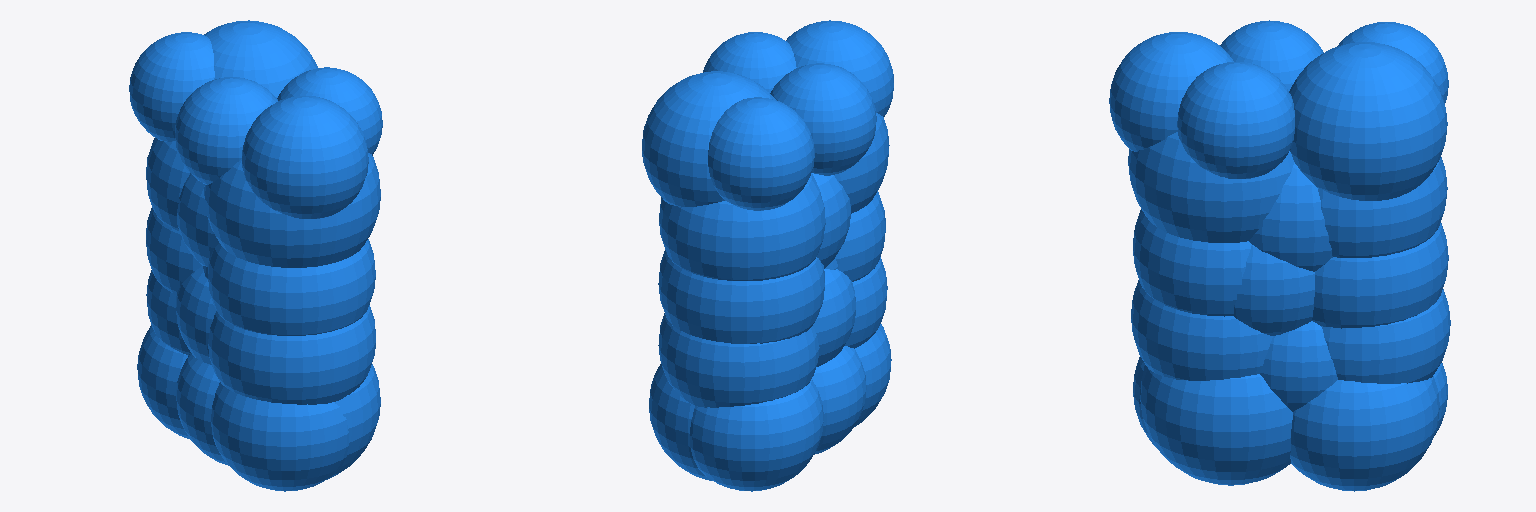
robot.urdf — nesquik:
<?xml version="1.0"?>
<robot name="nesquik">
  <!-- morphit:centroid -0.000616 -0.000011 0.072664 -->
  <material name="default_color">
    <color rgba="0.200000 0.600000 1.000000 1.000000"/>
  </material>
  <link name="base">
    <inertial>
      <mass value="0.001000"/>
      <inertia ixx="0.000010" ixy="0.0" ixz="0.0" iyy="0.000010" iyz="0.0" izz="0.000010"/>
    </inertial>
  </link>
  <link name="sphere_0">
    <visual>
      <origin xyz="0 0 0" rpy="0 0 0"/>
      <geometry><sphere radius="0.027161"/></geometry>
      <material name="default_color"/>
    </visual>
    <collision>
      <origin xyz="0 0 0" rpy="0 0 0"/>
      <geometry><sphere radius="0.027161"/></geometry>
    </collision>
    <inertial>
      <mass value="0.048175"/>
      <inertia ixx="0.000014" ixy="0.0" ixz="0.0" iyy="0.000014" iyz="0.0" izz="0.000014"/>
    </inertial>
  </link>
  <joint name="sphere_0_fixed" type="fixed">
    <parent link="base"/>
    <child link="sphere_0"/>
    <origin xyz="0.009214 0.024814 0.051232" rpy="0 0 0"/>
  </joint>
  <link name="sphere_1">
    <visual>
      <origin xyz="0 0 0" rpy="0 0 0"/>
      <geometry><sphere radius="0.022698"/></geometry>
      <material name="default_color"/>
    </visual>
    <collision>
      <origin xyz="0 0 0" rpy="0 0 0"/>
      <geometry><sphere radius="0.022698"/></geometry>
    </collision>
    <inertial>
      <mass value="0.028116"/>
      <inertia ixx="0.000006" ixy="0.0" ixz="0.0" iyy="0.000006" iyz="0.0" izz="0.000006"/>
    </inertial>
  </link>
  <joint name="sphere_1_fixed" type="fixed">
    <parent link="base"/>
    <child link="sphere_1"/>
    <origin xyz="-0.002673 -0.036501 0.054243" rpy="0 0 0"/>
  </joint>
  <link name="sphere_2">
    <visual>
      <origin xyz="0 0 0" rpy="0 0 0"/>
      <geometry><sphere radius="0.030306"/></geometry>
      <material name="default_color"/>
    </visual>
    <collision>
      <origin xyz="0 0 0" rpy="0 0 0"/>
      <geometry><sphere radius="0.030306"/></geometry>
    </collision>
    <inertial>
      <mass value="0.066917"/>
      <inertia ixx="0.000025" ixy="0.0" ixz="0.0" iyy="0.000025" iyz="0.0" izz="0.000025"/>
    </inertial>
  </link>
  <joint name="sphere_2_fixed" type="fixed">
    <parent link="base"/>
    <child link="sphere_2"/>
    <origin xyz="0.003570 -0.019130 -0.048899" rpy="0 0 0"/>
  </joint>
  <link name="sphere_3">
    <visual>
      <origin xyz="0 0 0" rpy="0 0 0"/>
      <geometry><sphere radius="0.028116"/></geometry>
      <material name="default_color"/>
    </visual>
    <collision>
      <origin xyz="0 0 0" rpy="0 0 0"/>
      <geometry><sphere radius="0.028116"/></geometry>
    </collision>
    <inertial>
      <mass value="0.053438"/>
      <inertia ixx="0.000017" ixy="0.0" ixz="0.0" iyy="0.000017" iyz="0.0" izz="0.000017"/>
    </inertial>
  </link>
  <joint name="sphere_3_fixed" type="fixed">
    <parent link="base"/>
    <child link="sphere_3"/>
    <origin xyz="0.007171 0.021315 -0.051766" rpy="0 0 0"/>
  </joint>
  <link name="sphere_4">
    <visual>
      <origin xyz="0 0 0" rpy="0 0 0"/>
      <geometry><sphere radius="0.030012"/></geometry>
      <material name="default_color"/>
    </visual>
    <collision>
      <origin xyz="0 0 0" rpy="0 0 0"/>
      <geometry><sphere radius="0.030012"/></geometry>
    </collision>
    <inertial>
      <mass value="0.064992"/>
      <inertia ixx="0.000023" ixy="0.0" ixz="0.0" iyy="0.000023" iyz="0.0" izz="0.000023"/>
    </inertial>
  </link>
  <joint name="sphere_4_fixed" type="fixed">
    <parent link="base"/>
    <child link="sphere_4"/>
    <origin xyz="0.000486 -0.021513 0.002787" rpy="0 0 0"/>
  </joint>
  <link name="sphere_5">
    <visual>
      <origin xyz="0 0 0" rpy="0 0 0"/>
      <geometry><sphere radius="0.031520"/></geometry>
      <material name="default_color"/>
    </visual>
    <collision>
      <origin xyz="0 0 0" rpy="0 0 0"/>
      <geometry><sphere radius="0.031520"/></geometry>
    </collision>
    <inertial>
      <mass value="0.075292"/>
      <inertia ixx="0.000030" ixy="0.0" ixz="0.0" iyy="0.000030" iyz="0.0" izz="0.000030"/>
    </inertial>
  </link>
  <joint name="sphere_5_fixed" type="fixed">
    <parent link="base"/>
    <child link="sphere_5"/>
    <origin xyz="0.000847 -0.021495 0.034028" rpy="0 0 0"/>
  </joint>
  <link name="sphere_6">
    <visual>
      <origin xyz="0 0 0" rpy="0 0 0"/>
      <geometry><sphere radius="0.020394"/></geometry>
      <material name="default_color"/>
    </visual>
    <collision>
      <origin xyz="0 0 0" rpy="0 0 0"/>
      <geometry><sphere radius="0.020394"/></geometry>
    </collision>
    <inertial>
      <mass value="0.020393"/>
      <inertia ixx="0.000003" ixy="0.0" ixz="0.0" iyy="0.000003" iyz="0.0" izz="0.000003"/>
    </inertial>
  </link>
  <joint name="sphere_6_fixed" type="fixed">
    <parent link="base"/>
    <child link="sphere_6"/>
    <origin xyz="-0.015370 -0.006457 0.054926" rpy="0 0 0"/>
  </joint>
  <link name="sphere_7">
    <visual>
      <origin xyz="0 0 0" rpy="0 0 0"/>
      <geometry><sphere radius="0.030041"/></geometry>
      <material name="default_color"/>
    </visual>
    <collision>
      <origin xyz="0 0 0" rpy="0 0 0"/>
      <geometry><sphere radius="0.030041"/></geometry>
    </collision>
    <inertial>
      <mass value="0.065183"/>
      <inertia ixx="0.000024" ixy="0.0" ixz="0.0" iyy="0.000024" iyz="0.0" izz="0.000024"/>
    </inertial>
  </link>
  <joint name="sphere_7_fixed" type="fixed">
    <parent link="base"/>
    <child link="sphere_7"/>
    <origin xyz="0.000391 0.022299 -0.001291" rpy="0 0 0"/>
  </joint>
  <link name="sphere_8">
    <visual>
      <origin xyz="0 0 0" rpy="0 0 0"/>
      <geometry><sphere radius="0.020468"/></geometry>
      <material name="default_color"/>
    </visual>
    <collision>
      <origin xyz="0 0 0" rpy="0 0 0"/>
      <geometry><sphere radius="0.020468"/></geometry>
    </collision>
    <inertial>
      <mass value="0.020617"/>
      <inertia ixx="0.000003" ixy="0.0" ixz="0.0" iyy="0.000003" iyz="0.0" izz="0.000003"/>
    </inertial>
  </link>
  <joint name="sphere_8_fixed" type="fixed">
    <parent link="base"/>
    <child link="sphere_8"/>
    <origin xyz="-0.011831 0.031909 0.056051" rpy="0 0 0"/>
  </joint>
  <link name="sphere_9">
    <visual>
      <origin xyz="0 0 0" rpy="0 0 0"/>
      <geometry><sphere radius="0.019869"/></geometry>
      <material name="default_color"/>
    </visual>
    <collision>
      <origin xyz="0 0 0" rpy="0 0 0"/>
      <geometry><sphere radius="0.019869"/></geometry>
    </collision>
    <inertial>
      <mass value="0.018857"/>
      <inertia ixx="0.000003" ixy="0.0" ixz="0.0" iyy="0.000003" iyz="0.0" izz="0.000003"/>
    </inertial>
  </link>
  <joint name="sphere_9_fixed" type="fixed">
    <parent link="base"/>
    <child link="sphere_9"/>
    <origin xyz="0.017462 -0.017248 0.055919" rpy="0 0 0"/>
  </joint>
  <link name="sphere_10">
    <visual>
      <origin xyz="0 0 0" rpy="0 0 0"/>
      <geometry><sphere radius="0.030123"/></geometry>
      <material name="default_color"/>
    </visual>
    <collision>
      <origin xyz="0 0 0" rpy="0 0 0"/>
      <geometry><sphere radius="0.030123"/></geometry>
    </collision>
    <inertial>
      <mass value="0.065717"/>
      <inertia ixx="0.000024" ixy="0.0" ixz="0.0" iyy="0.000024" iyz="0.0" izz="0.000024"/>
    </inertial>
  </link>
  <joint name="sphere_10_fixed" type="fixed">
    <parent link="base"/>
    <child link="sphere_10"/>
    <origin xyz="0.000339 0.021846 0.023884" rpy="0 0 0"/>
  </joint>
  <link name="sphere_11">
    <visual>
      <origin xyz="0 0 0" rpy="0 0 0"/>
      <geometry><sphere radius="0.029068"/></geometry>
      <material name="default_color"/>
    </visual>
    <collision>
      <origin xyz="0 0 0" rpy="0 0 0"/>
      <geometry><sphere radius="0.029068"/></geometry>
    </collision>
    <inertial>
      <mass value="0.059047"/>
      <inertia ixx="0.000020" ixy="0.0" ixz="0.0" iyy="0.000020" iyz="0.0" izz="0.000020"/>
    </inertial>
  </link>
  <joint name="sphere_11_fixed" type="fixed">
    <parent link="base"/>
    <child link="sphere_11"/>
    <origin xyz="0.000552 0.023933 -0.024941" rpy="0 0 0"/>
  </joint>
  <link name="sphere_12">
    <visual>
      <origin xyz="0 0 0" rpy="0 0 0"/>
      <geometry><sphere radius="0.027553"/></geometry>
      <material name="default_color"/>
    </visual>
    <collision>
      <origin xyz="0 0 0" rpy="0 0 0"/>
      <geometry><sphere radius="0.027553"/></geometry>
    </collision>
    <inertial>
      <mass value="0.050288"/>
      <inertia ixx="0.000015" ixy="0.0" ixz="0.0" iyy="0.000015" iyz="0.0" izz="0.000015"/>
    </inertial>
  </link>
  <joint name="sphere_12_fixed" type="fixed">
    <parent link="base"/>
    <child link="sphere_12"/>
    <origin xyz="-0.003195 -0.023921 -0.050700" rpy="0 0 0"/>
  </joint>
  <link name="sphere_13">
    <visual>
      <origin xyz="0 0 0" rpy="0 0 0"/>
      <geometry><sphere radius="0.026407"/></geometry>
      <material name="default_color"/>
    </visual>
    <collision>
      <origin xyz="0 0 0" rpy="0 0 0"/>
      <geometry><sphere radius="0.026407"/></geometry>
    </collision>
    <inertial>
      <mass value="0.044271"/>
      <inertia ixx="0.000012" ixy="0.0" ixz="0.0" iyy="0.000012" iyz="0.0" izz="0.000012"/>
    </inertial>
  </link>
  <joint name="sphere_13_fixed" type="fixed">
    <parent link="base"/>
    <child link="sphere_13"/>
    <origin xyz="-0.005219 0.025775 -0.052416" rpy="0 0 0"/>
  </joint>
  <link name="sphere_14">
    <visual>
      <origin xyz="0 0 0" rpy="0 0 0"/>
      <geometry><sphere radius="0.026790"/></geometry>
      <material name="default_color"/>
    </visual>
    <collision>
      <origin xyz="0 0 0" rpy="0 0 0"/>
      <geometry><sphere radius="0.026790"/></geometry>
    </collision>
    <inertial>
      <mass value="0.046226"/>
      <inertia ixx="0.000013" ixy="0.0" ixz="0.0" iyy="0.000013" iyz="0.0" izz="0.000013"/>
    </inertial>
  </link>
  <joint name="sphere_14_fixed" type="fixed">
    <parent link="base"/>
    <child link="sphere_14"/>
    <origin xyz="0.003451 0.004159 -0.030756" rpy="0 0 0"/>
  </joint>
  <link name="sphere_15">
    <visual>
      <origin xyz="0 0 0" rpy="0 0 0"/>
      <geometry><sphere radius="0.030165"/></geometry>
      <material name="default_color"/>
    </visual>
    <collision>
      <origin xyz="0 0 0" rpy="0 0 0"/>
      <geometry><sphere radius="0.030165"/></geometry>
    </collision>
    <inertial>
      <mass value="0.065991"/>
      <inertia ixx="0.000024" ixy="0.0" ixz="0.0" iyy="0.000024" iyz="0.0" izz="0.000024"/>
    </inertial>
  </link>
  <joint name="sphere_15_fixed" type="fixed">
    <parent link="base"/>
    <child link="sphere_15"/>
    <origin xyz="0.000292 -0.021945 -0.022309" rpy="0 0 0"/>
  </joint>
  <link name="sphere_16">
    <visual>
      <origin xyz="0 0 0" rpy="0 0 0"/>
      <geometry><sphere radius="0.025687"/></geometry>
      <material name="default_color"/>
    </visual>
    <collision>
      <origin xyz="0 0 0" rpy="0 0 0"/>
      <geometry><sphere radius="0.025687"/></geometry>
    </collision>
    <inertial>
      <mass value="0.040750"/>
      <inertia ixx="0.000011" ixy="0.0" ixz="0.0" iyy="0.000011" iyz="0.0" izz="0.000011"/>
    </inertial>
  </link>
  <joint name="sphere_16_fixed" type="fixed">
    <parent link="base"/>
    <child link="sphere_16"/>
    <origin xyz="-0.006975 -0.003385 -0.051130" rpy="0 0 0"/>
  </joint>
  <link name="sphere_17">
    <visual>
      <origin xyz="0 0 0" rpy="0 0 0"/>
      <geometry><sphere radius="0.027455"/></geometry>
      <material name="default_color"/>
    </visual>
    <collision>
      <origin xyz="0 0 0" rpy="0 0 0"/>
      <geometry><sphere radius="0.027455"/></geometry>
    </collision>
    <inertial>
      <mass value="0.049754"/>
      <inertia ixx="0.000015" ixy="0.0" ixz="0.0" iyy="0.000015" iyz="0.0" izz="0.000015"/>
    </inertial>
  </link>
  <joint name="sphere_17_fixed" type="fixed">
    <parent link="base"/>
    <child link="sphere_17"/>
    <origin xyz="-0.002923 0.000388 -0.018333" rpy="0 0 0"/>
  </joint>
  <link name="sphere_18">
    <visual>
      <origin xyz="0 0 0" rpy="0 0 0"/>
      <geometry><sphere radius="0.027910"/></geometry>
      <material name="default_color"/>
    </visual>
    <collision>
      <origin xyz="0 0 0" rpy="0 0 0"/>
      <geometry><sphere radius="0.027910"/></geometry>
    </collision>
    <inertial>
      <mass value="0.052269"/>
      <inertia ixx="0.000016" ixy="0.0" ixz="0.0" iyy="0.000016" iyz="0.0" izz="0.000016"/>
    </inertial>
  </link>
  <joint name="sphere_18_fixed" type="fixed">
    <parent link="base"/>
    <child link="sphere_18"/>
    <origin xyz="0.003712 -0.007300 -0.000517" rpy="0 0 0"/>
  </joint>
  <link name="sphere_19">
    <visual>
      <origin xyz="0 0 0" rpy="0 0 0"/>
      <geometry><sphere radius="0.029813"/></geometry>
      <material name="default_color"/>
    </visual>
    <collision>
      <origin xyz="0 0 0" rpy="0 0 0"/>
      <geometry><sphere radius="0.029813"/></geometry>
    </collision>
    <inertial>
      <mass value="0.063708"/>
      <inertia ixx="0.000023" ixy="0.0" ixz="0.0" iyy="0.000023" iyz="0.0" izz="0.000023"/>
    </inertial>
  </link>
  <joint name="sphere_19_fixed" type="fixed">
    <parent link="base"/>
    <child link="sphere_19"/>
    <origin xyz="0.000700 0.002456 0.019987" rpy="0 0 0"/>
  </joint>
</robot>

--- Facts derived from the render (not from the file) ---
3 views of the same robot in one strip: view 1: azimuth 30°, elevation 25°; view 2: azimuth 150°, elevation 25°; view 3: azimuth 270°, elevation 25° (orthographic).
Model nesquik with 21 links and 20 joints (20 fixed), rooted at base, posed all joints at 0.
Links seen in each view (by area): view 1: sphere_1, sphere_4, sphere_15, sphere_12, sphere_5, sphere_6, sphere_8, sphere_0, sphere_9, sphere_13, sphere_16, sphere_10 (+5 smaller); view 2: sphere_10, sphere_13, sphere_7, sphere_8, sphere_11, sphere_0, sphere_6, sphere_1, sphere_16, sphere_9, sphere_3, sphere_17 (+5 smaller); view 3: sphere_0, sphere_2, sphere_3, sphere_9, sphere_5, sphere_7, sphere_15, sphere_1, sphere_4, sphere_11, sphere_10, sphere_18 (+4 smaller).
Link boxes in pixels (x1,y1,x2,y2): sphere_1: [242, 96, 368, 218]; sphere_4: [208, 239, 375, 335]; sphere_15: [208, 305, 375, 404]; sphere_12: [211, 382, 348, 491]; sphere_5: [204, 153, 380, 267]; sphere_6: [175, 77, 277, 184]; sphere_8: [129, 32, 214, 141]; sphere_0: [204, 20, 317, 97]; sphere_9: [277, 67, 382, 155]; sphere_13: [137, 325, 189, 438]; sphere_16: [176, 353, 228, 465]; sphere_10: [146, 138, 189, 230]; sphere_10: [659, 173, 825, 280]; sphere_13: [690, 379, 823, 491]; sphere_7: [658, 250, 824, 343]; sphere_8: [708, 97, 814, 210]; sphere_11: [658, 313, 819, 407]; sphere_0: [642, 71, 775, 206]; sphere_6: [770, 63, 876, 175]; sphere_1: [786, 20, 893, 116]; sphere_16: [812, 346, 866, 454]; sphere_9: [703, 32, 796, 92]; sphere_3: [649, 364, 711, 480]; sphere_17: [813, 269, 855, 366]; sphere_0: [1289, 42, 1447, 200]; sphere_2: [1140, 365, 1292, 485]; sphere_3: [1290, 376, 1439, 491]; sphere_9: [1177, 62, 1294, 178]; sphere_5: [1128, 132, 1294, 242]; sphere_7: [1312, 223, 1448, 328]; sphere_15: [1131, 280, 1272, 380]; sphere_1: [1109, 32, 1233, 151]; sphere_4: [1133, 209, 1251, 316]; sphere_11: [1321, 289, 1450, 383]; sphere_10: [1318, 157, 1447, 257]; sphere_18: [1233, 245, 1314, 335].
Size in the robot's own frame: 0.0731 by 0.1122 by 0.1583 metres.
Geometry: primitives only (box / cylinder / sphere), no mesh files.
